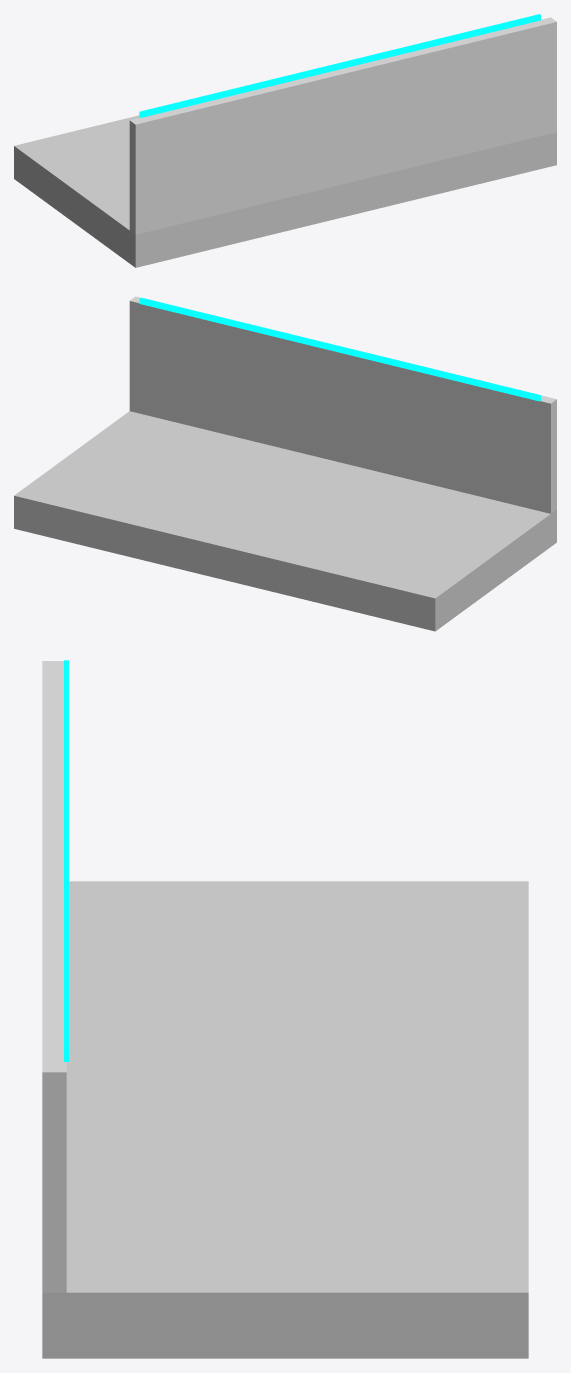
Rendered from OCK_Bay_Setback_C.fbx.
3 views of the same model, one above another, from view 1: azimuth 30°, elevation 25°; view 2: azimuth 150°, elevation 25°; view 3: azimuth 270°, elevation 25° (orthographic). The views are drawn at different scales.
Visible parts, largest first — view 1: OCK_Bay_Setback_C; view 2: OCK_Bay_Setback_C; view 3: OCK_Bay_Setback_C.
Part boxes in pixels (left/top/right/bottom): OCK_Bay_Setback_C: left=14, top=14, right=556, bottom=267; OCK_Bay_Setback_C: left=14, top=296, right=556, bottom=631; OCK_Bay_Setback_C: left=42, top=660, right=528, bottom=1358.
Size of the model in its own units: 400 by 135 by 200.
